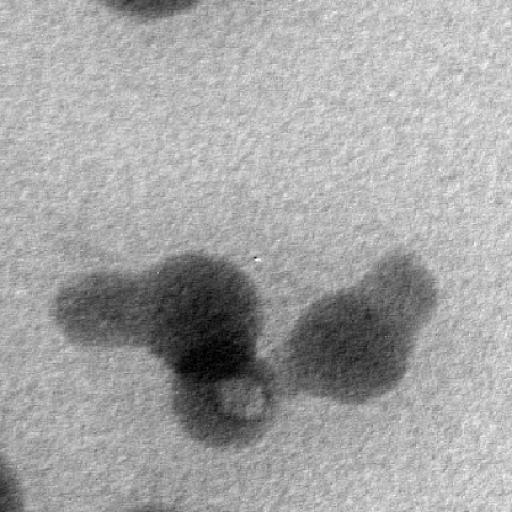Nanoparticles: (144, 245, 264, 384), (288, 286, 414, 410), (167, 346, 282, 449), (54, 265, 148, 360), (354, 239, 443, 330), (96, 0, 200, 25), (0, 454, 26, 512)
